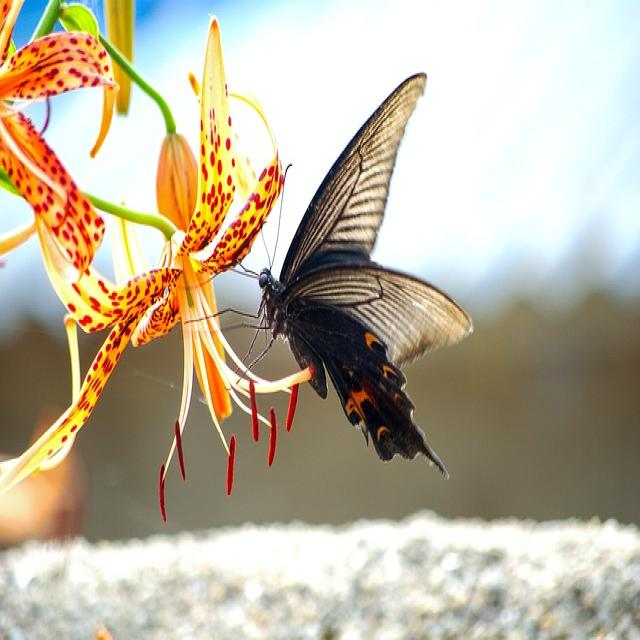butterfly: (246, 72, 475, 471)
